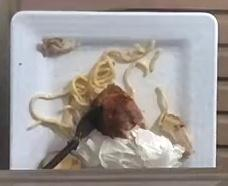asian_noodles: (44, 56, 115, 125), (74, 84, 144, 139)
